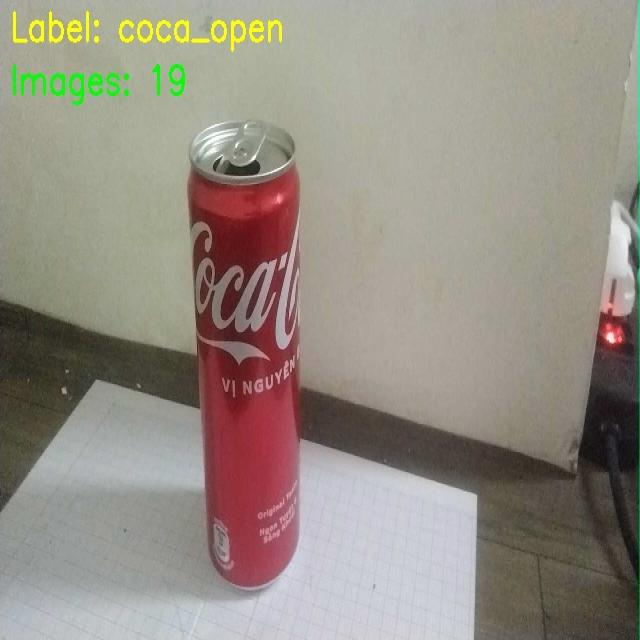Coca_open: (172, 124, 326, 598)
